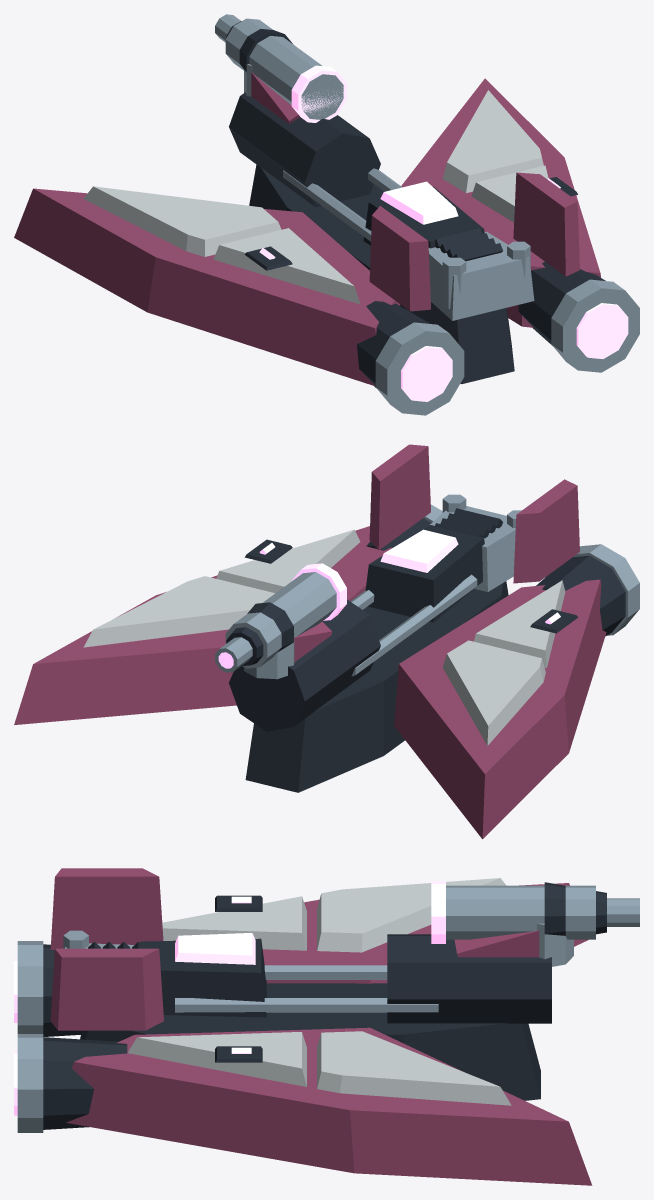
Rendered from c2_skirmisher.glb.
3 views of the same model, one above another, from view 1: azimuth 30°, elevation 25°; view 2: azimuth 150°, elevation 25°; view 3: azimuth 270°, elevation 25° (orthographic). The views are drawn at different scales.
Visible parts, largest first — view 1: c2_skirmisher / Armor, c2_skirmisher / Chassis, c2_skirmisher / Titanium, c2_skirmisher / Identification, c2_skirmisher / Energy; view 2: c2_skirmisher / Armor, c2_skirmisher / Chassis, c2_skirmisher / Identification, c2_skirmisher / Titanium, c2_skirmisher / Energy; view 3: c2_skirmisher / Armor, c2_skirmisher / Chassis, c2_skirmisher / Identification, c2_skirmisher / Titanium, c2_skirmisher / Energy.
Part boxes in pixels (box(x1,y1,x2,y2)): c2_skirmisher / Armor: box(14, 72, 600, 386); c2_skirmisher / Chassis: box(226, 21, 605, 387); c2_skirmisher / Titanium: box(215, 14, 639, 415); c2_skirmisher / Identification: box(83, 90, 548, 304); c2_skirmisher / Energy: box(259, 65, 628, 401); c2_skirmisher / Armor: box(14, 444, 606, 839); c2_skirmisher / Chassis: box(226, 508, 625, 792); c2_skirmisher / Identification: box(83, 529, 565, 745); c2_skirmisher / Titanium: box(215, 494, 639, 679); c2_skirmisher / Energy: box(218, 529, 560, 668); c2_skirmisher / Armor: box(50, 868, 592, 1185); c2_skirmisher / Chassis: box(43, 882, 606, 1129); c2_skirmisher / Identification: box(128, 878, 511, 1105); c2_skirmisher / Titanium: box(17, 885, 639, 1132); c2_skirmisher / Energy: box(14, 881, 445, 1115).
Size of the model in its own units: 1.6 by 0.607 by 1.71.
